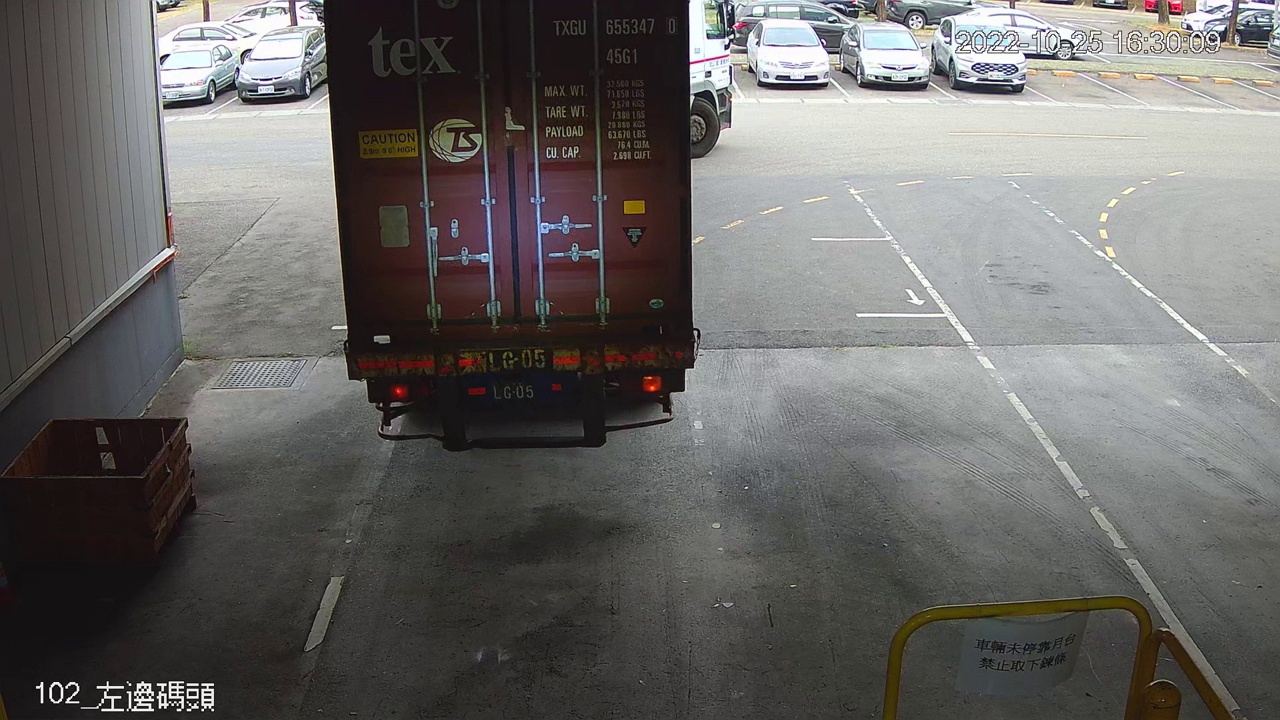container: (542, 10, 683, 69)
